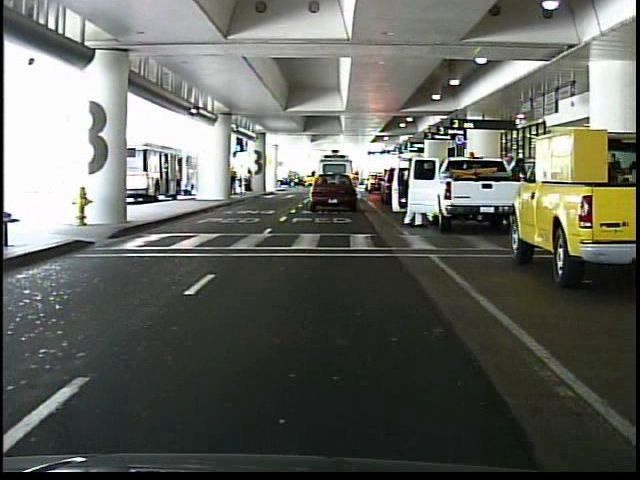person: (228, 163, 240, 198), (244, 166, 257, 195)
